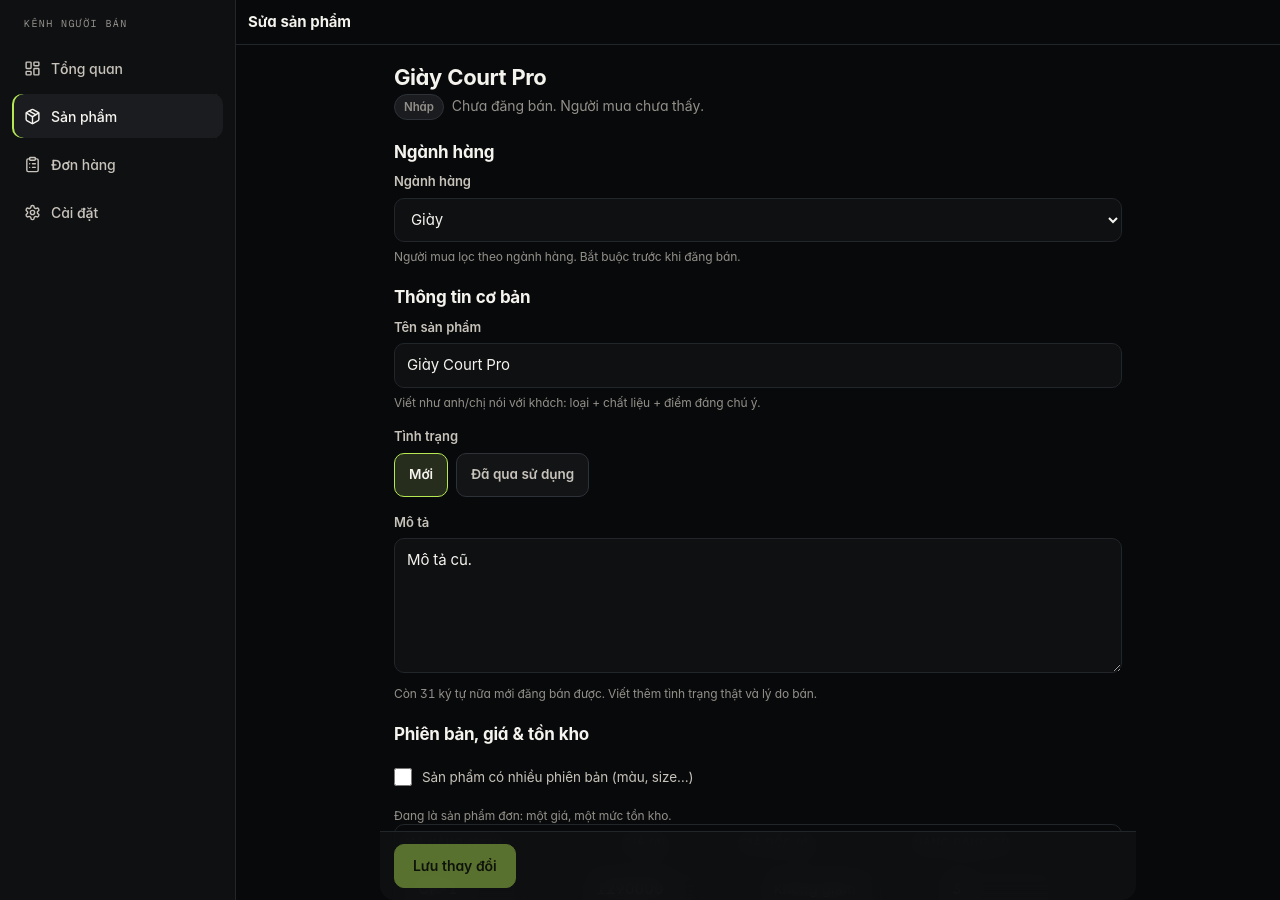
Test case: no save branch can strand the button on Đang lưu… › retries successfully, and only one save lands
The width and height of the screenshot is (1280, 900).
Replace the text in the field labelled "Tên sản phẩm" with "Tên mới" at (758,365), box top-left (394, 343), bottom-right (1122, 388)
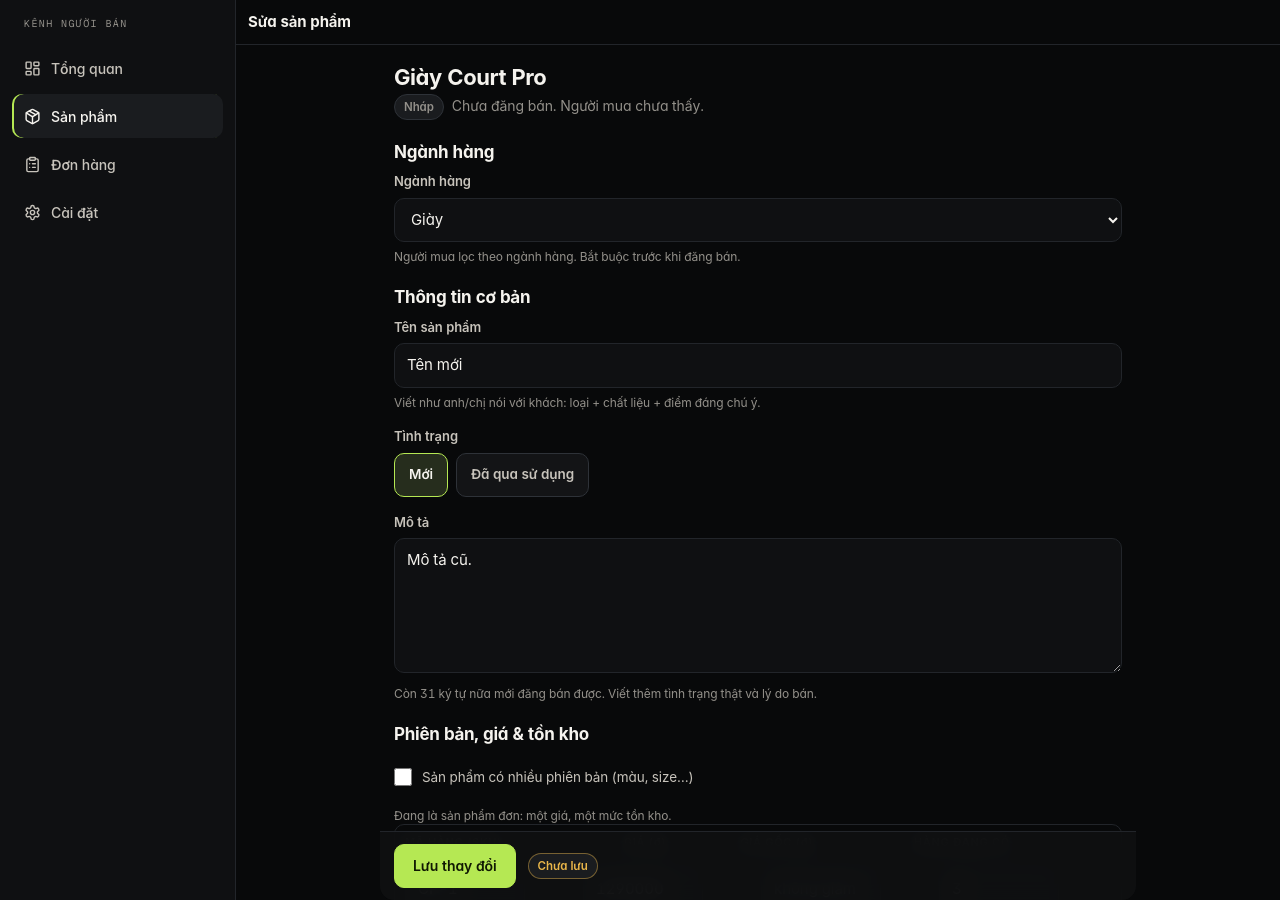
Click the button "Lưu thay đổi" at (455,866), box top-left (394, 844), bottom-right (516, 888)
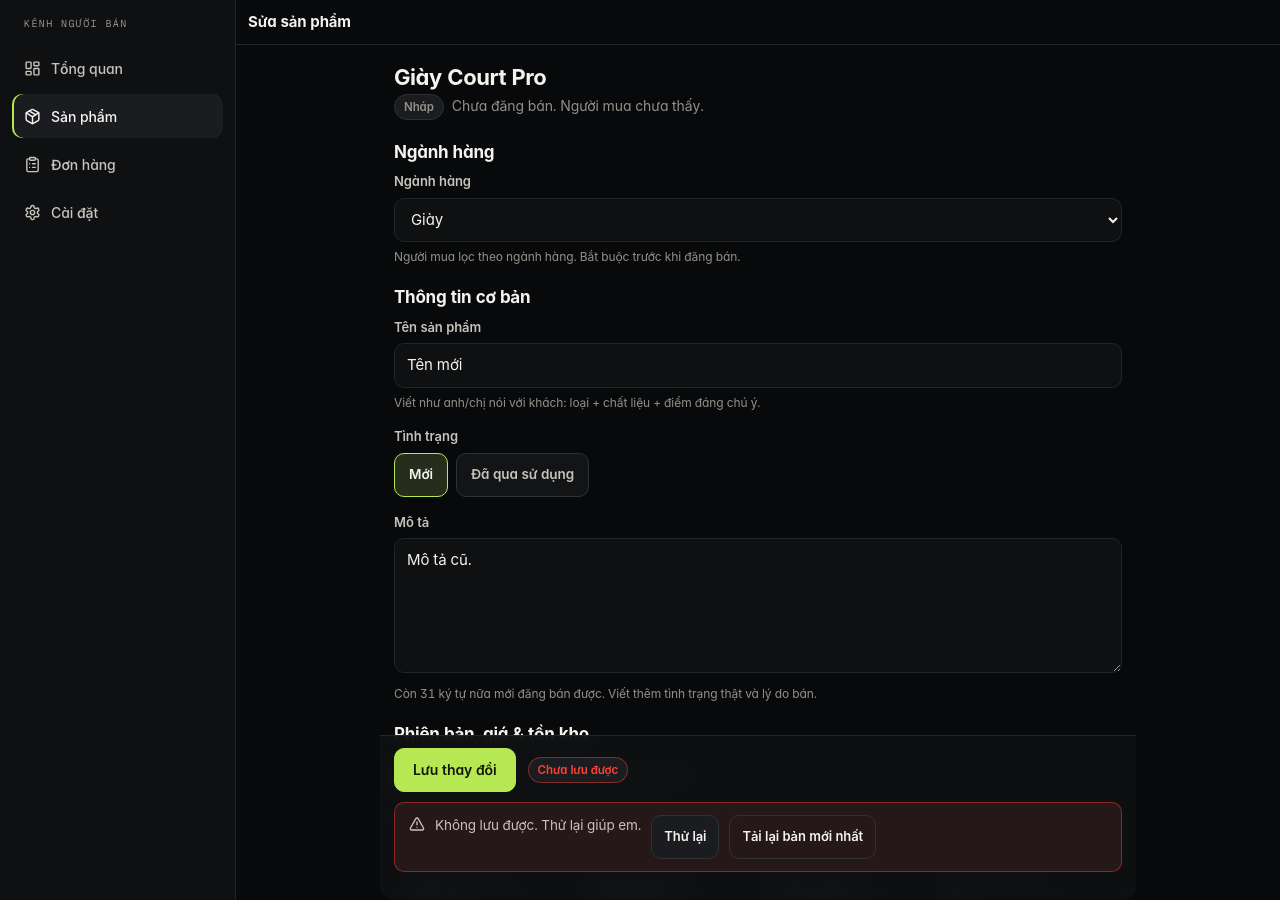
Expected: the button "Thử lại" is shown
Click the button "Thử lại" at (685,837), box top-left (651, 815), bottom-right (720, 859)
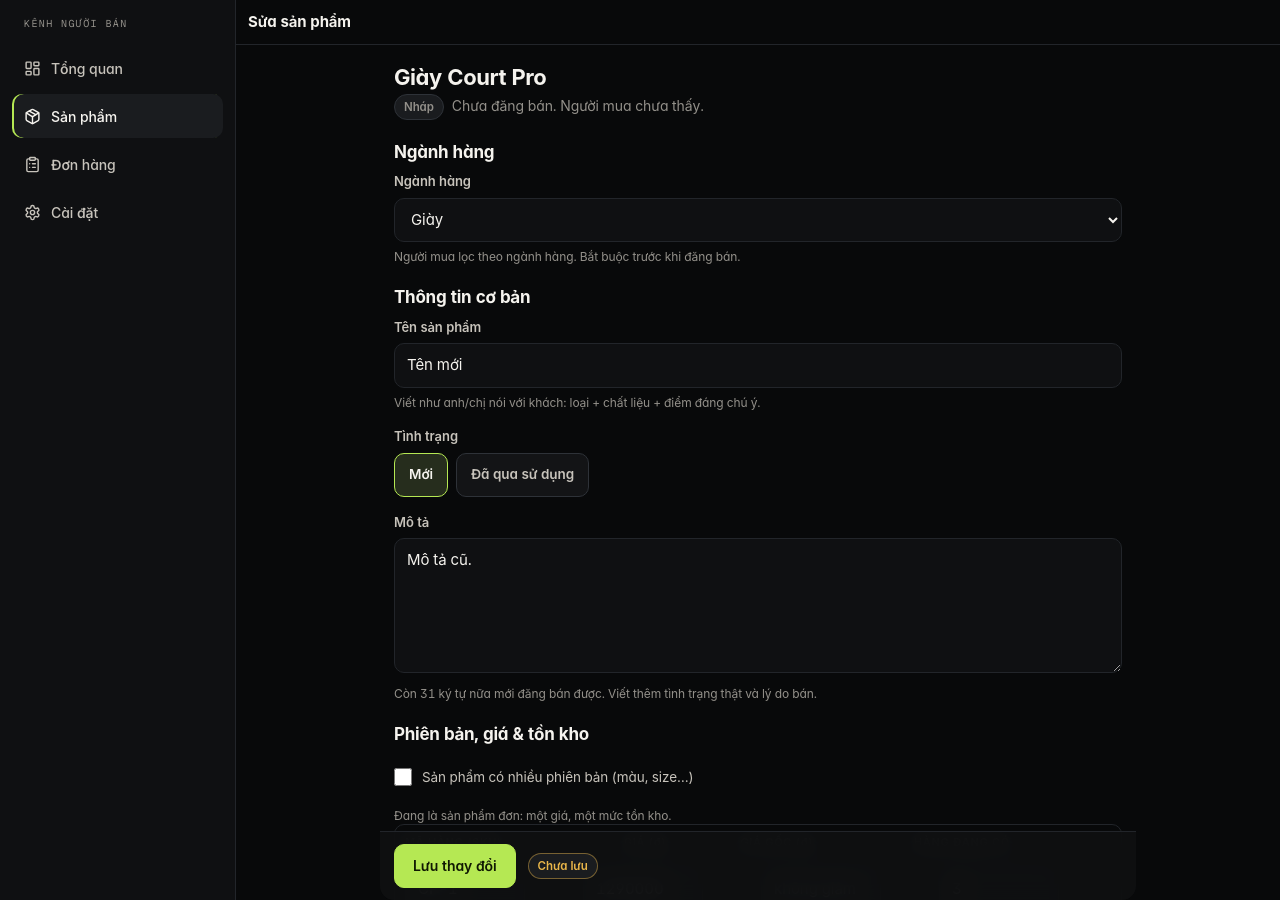
Expected: the text "Chưa lưu được" is gone
